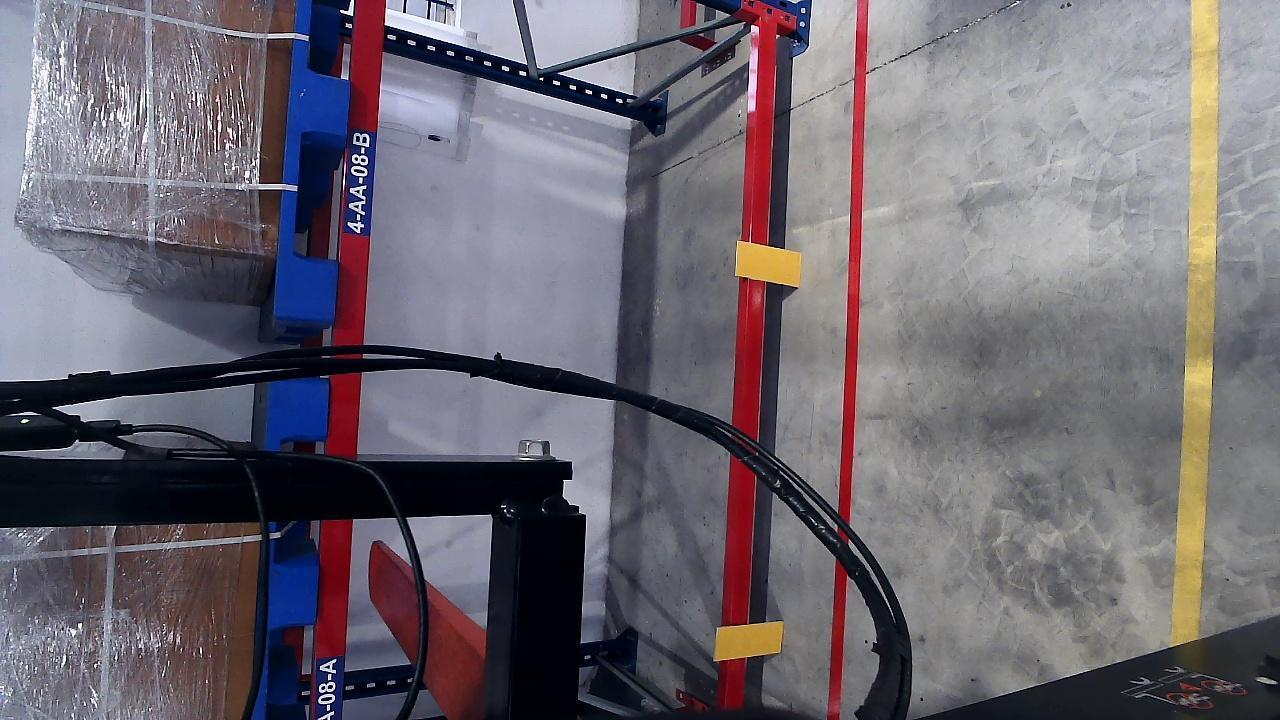red_line: (828, 7, 868, 717)
yellow_line: (1170, 0, 1221, 648)
